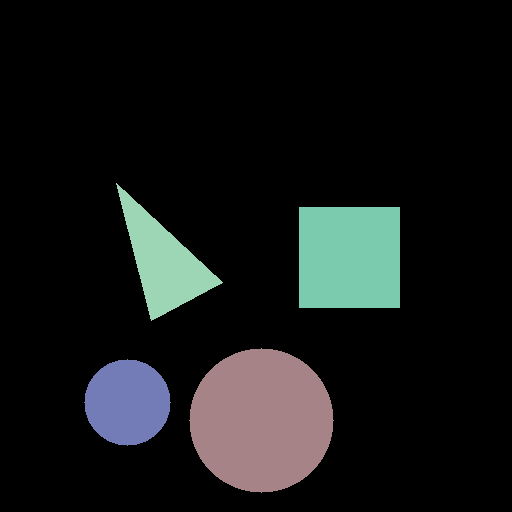circle: (189, 348, 333, 492), (84, 359, 170, 445)
square: (299, 207, 399, 307)
triangle: (116, 183, 222, 320)
